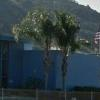Palm tree: (32, 9, 98, 81)
